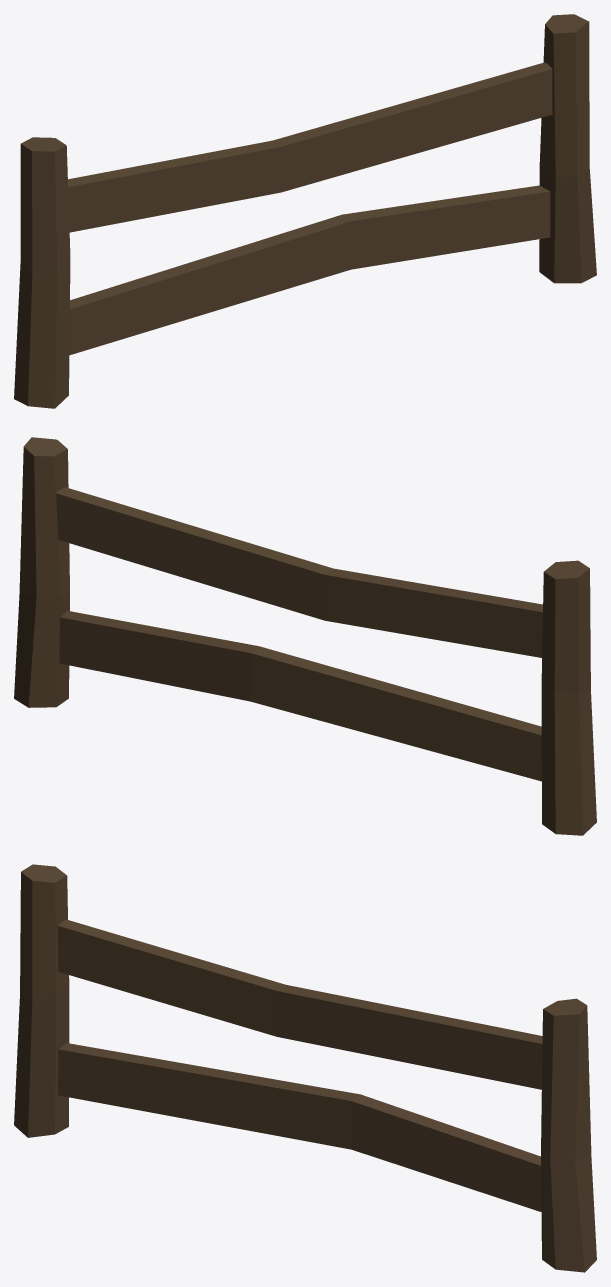
Rendered from enchantedforest_fence_wood_1.fbx.
3 views of the same model, one above another, from view 1: azimuth 30°, elevation 25°; view 2: azimuth 150°, elevation 25°; view 3: azimuth 330°, elevation 25° (orthographic).
Parts seen in each view (by area): view 1: Cube.002, Cylinder.001; view 2: Cube.002, Cylinder.001; view 3: Cube.002, Cylinder.001.
Part boxes in pixels (left/top/right/bottom): Cube.002: left=14, top=62, right=552, bottom=408; Cylinder.001: left=539, top=14, right=596, bottom=283; Cube.002: left=56, top=487, right=596, bottom=835; Cylinder.001: left=14, top=437, right=69, bottom=707; Cube.002: left=14, top=864, right=542, bottom=1211; Cylinder.001: left=541, top=998, right=596, bottom=1272.
Bounding box in the file's own units: 3.25 × 1.42 × 0.2815.
